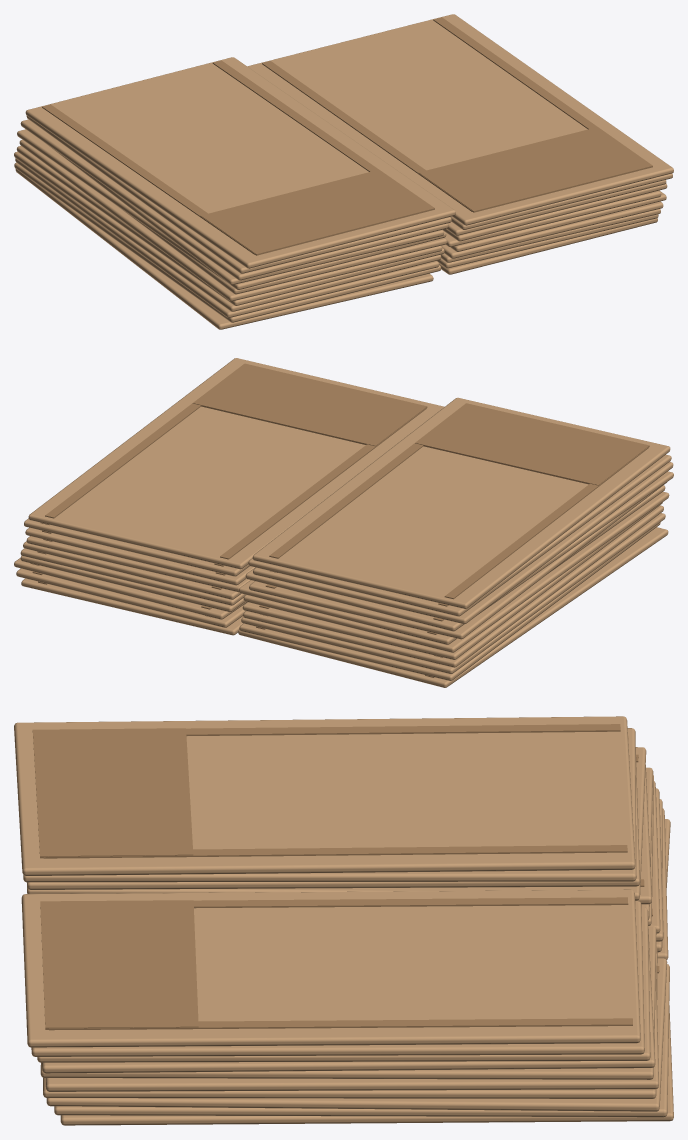
Rendered from SM_BagStack.glb.
3 views of the same model, one above another, from view 1: azimuth 30°, elevation 25°; view 2: azimuth 150°, elevation 25°; view 3: azimuth 270°, elevation 25° (orthographic). The views are drawn at different scales.
Parts seen in each view (by area): view 1: SM_BagStack; view 2: SM_BagStack; view 3: SM_BagStack.
Part boxes in pixels (box(x1,y1,x2,y2)): SM_BagStack: box(14, 14, 673, 329); SM_BagStack: box(14, 358, 673, 687); SM_BagStack: box(14, 716, 673, 1125).
Size of the model in its own units: 0.5054 by 0.0826 by 0.452.
1 material, 1 textured.
